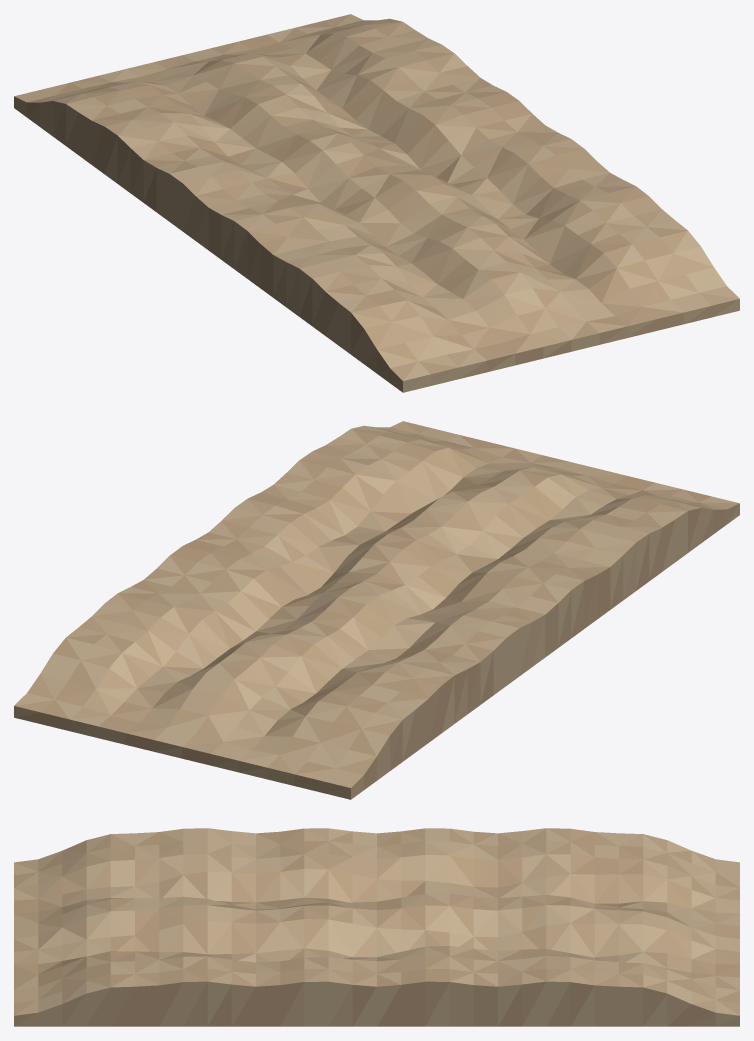
File: 11_erosion_ruts.glb
3 renders of one model, top to bottom at view 1: azimuth 30°, elevation 25°; view 2: azimuth 150°, elevation 25°; view 3: azimuth 270°, elevation 25°, orthographic. The views are drawn at different scales.
Visible parts, largest first — view 1: ObstacleMesh; view 2: ObstacleMesh; view 3: ObstacleMesh.
Part boxes in pixels (x1,y1,x2,y2): ObstacleMesh: (14, 14, 739, 392); ObstacleMesh: (14, 421, 739, 799); ObstacleMesh: (14, 828, 739, 1026).
Bounding box in the file's own units: 6 × 0.8247 × 12.
